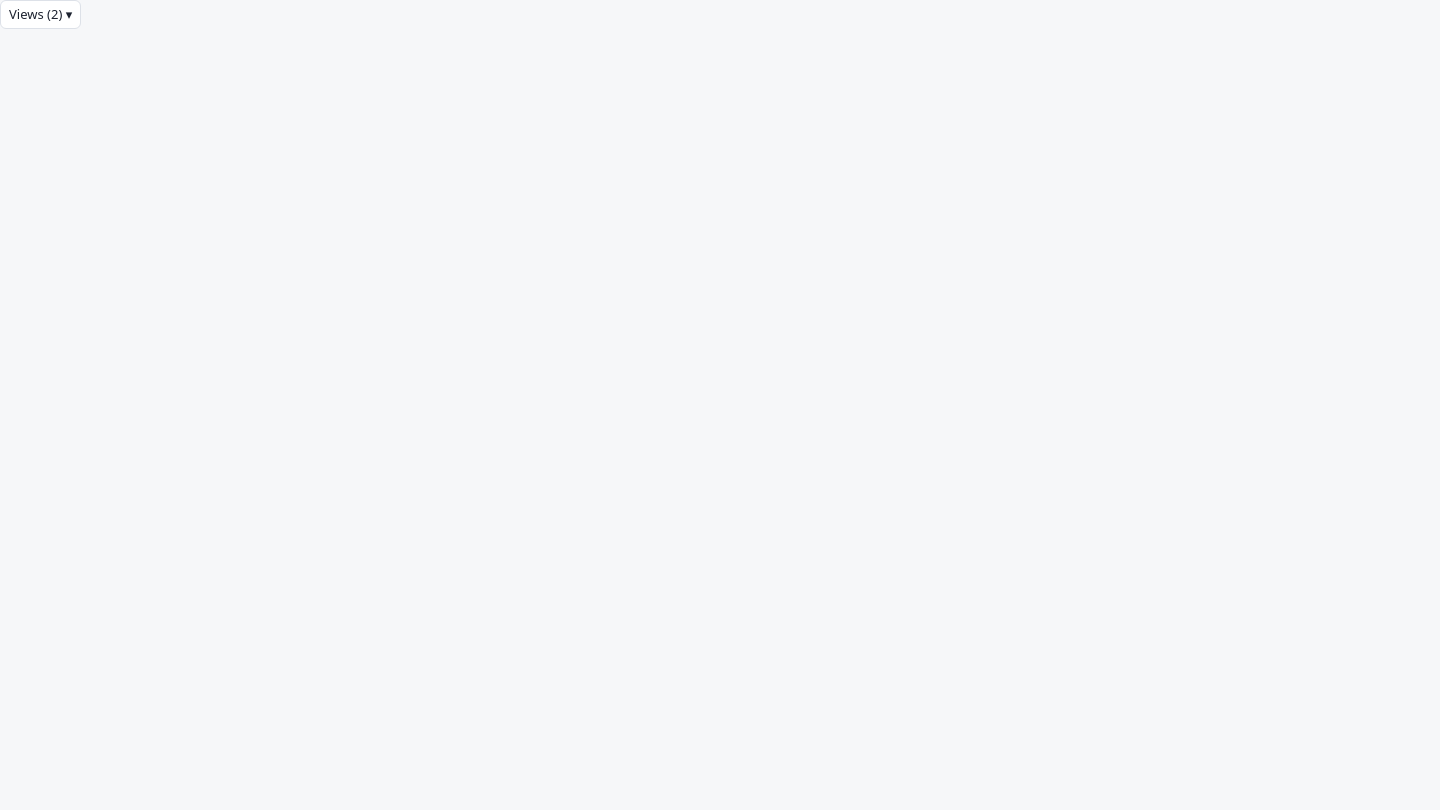
Test: ViewsMenu › a person deletes their own views only; the local machine deletes any
Later steps or results of the test are not shown.
What coordinates should you click on to do the following:
click the button "Views (2) ▾"
I would click on:
 (41, 14)
Its box is left=0, top=0, right=81, bottom=29.
What coordinates should you click on to do the following:
click the button "Views (2) ▾"
I would click on:
 (41, 14)
Its box is left=0, top=0, right=81, bottom=29.
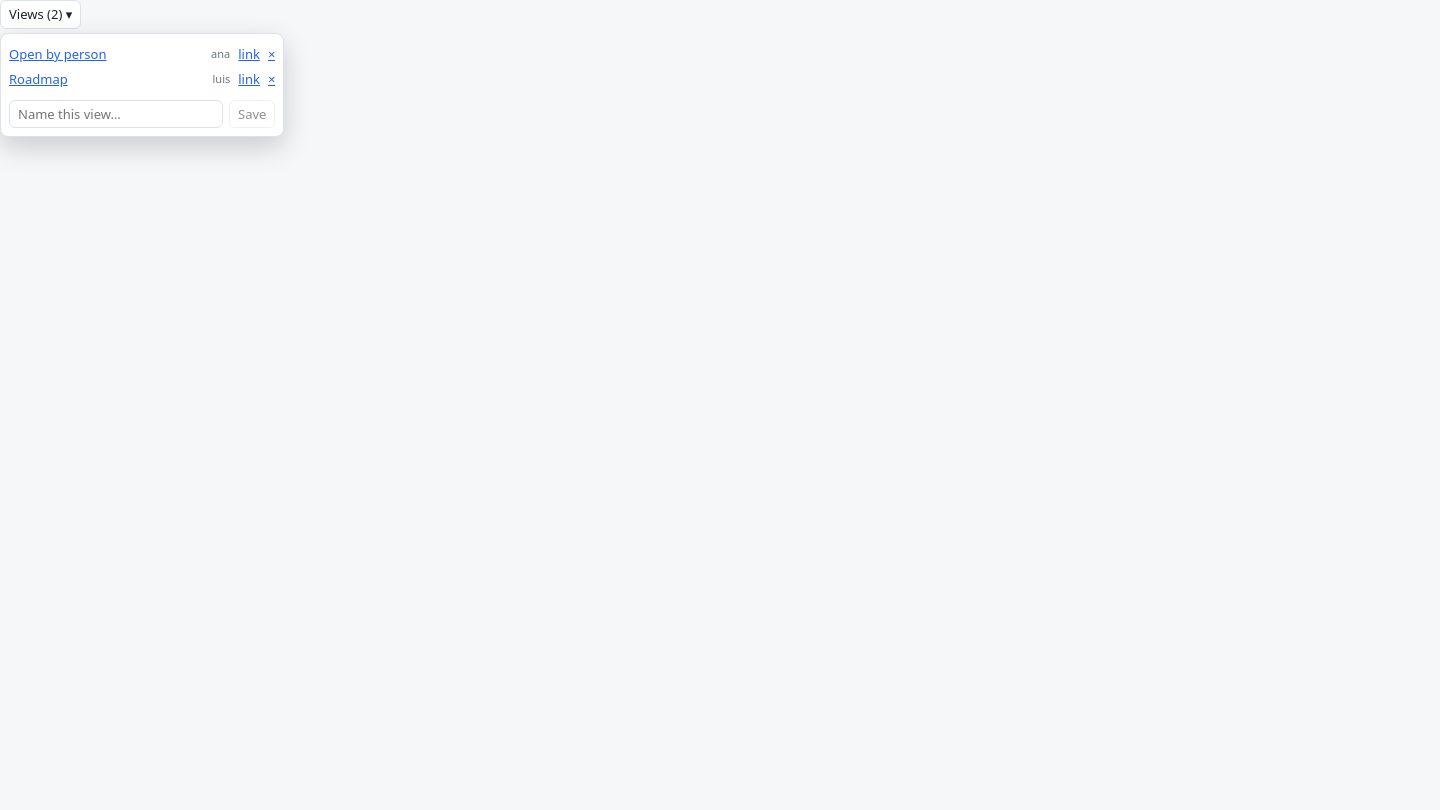
Now the button named "Delete Roadmap" is shown, box left=268, top=70, right=275, bottom=88
